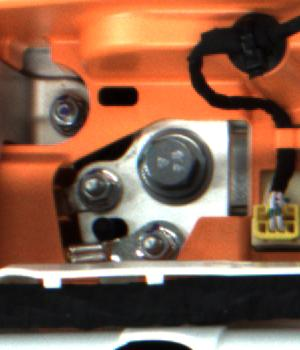nut_b: (133, 125, 216, 210)
